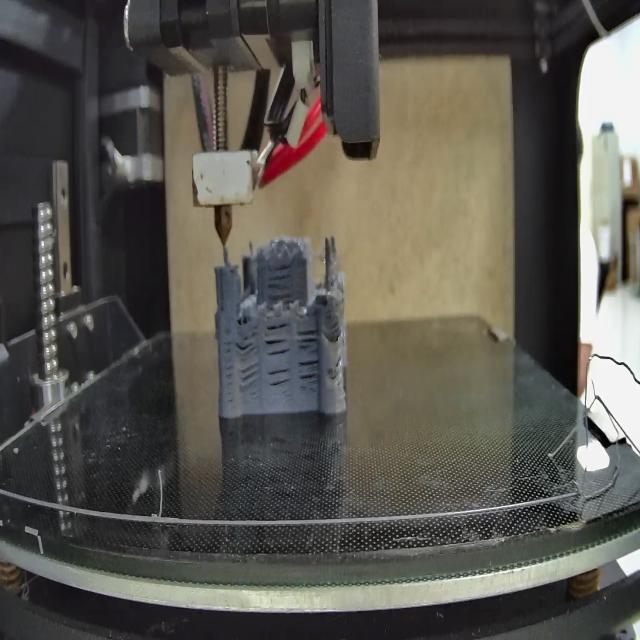cracks: (219, 299, 235, 407), (268, 258, 296, 306), (266, 322, 294, 358), (295, 358, 319, 398), (298, 322, 318, 356), (236, 361, 261, 388), (235, 323, 256, 353), (268, 365, 290, 392), (327, 315, 345, 344), (329, 356, 345, 381)
